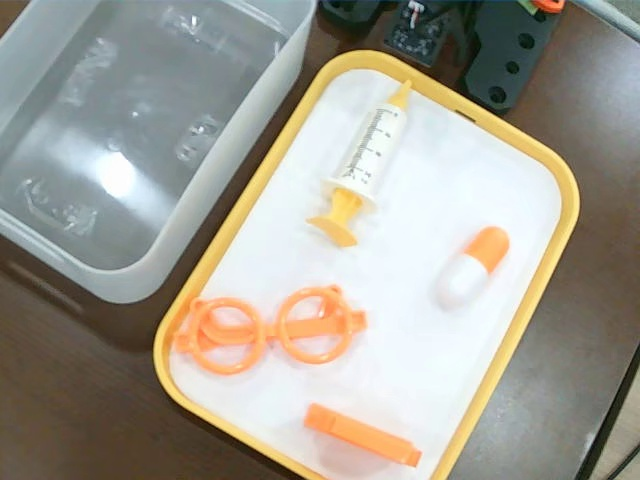pill: (437, 225, 511, 311)
syringe: (305, 79, 413, 249)
